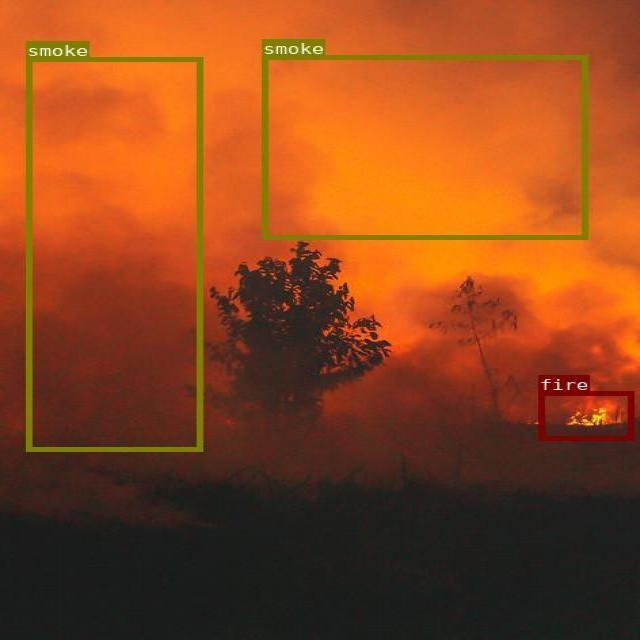fire: (538, 391, 633, 440)
smoke: (25, 56, 202, 451), (261, 55, 587, 239)
